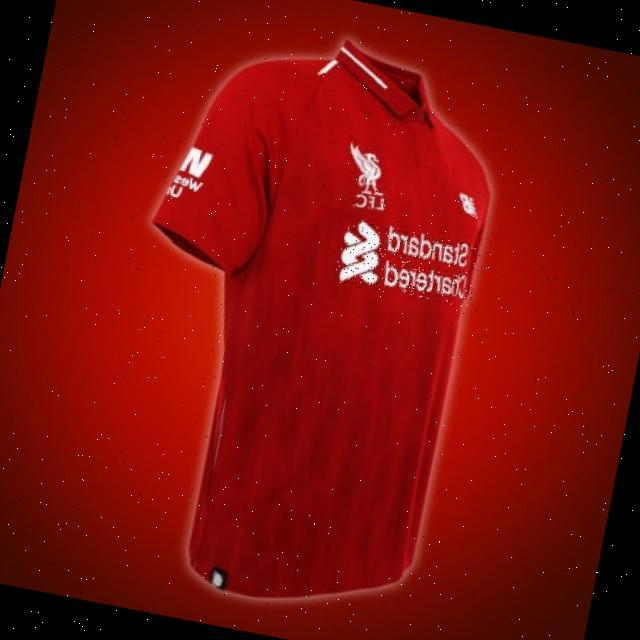Standard Chartered: (334, 218, 483, 308)
